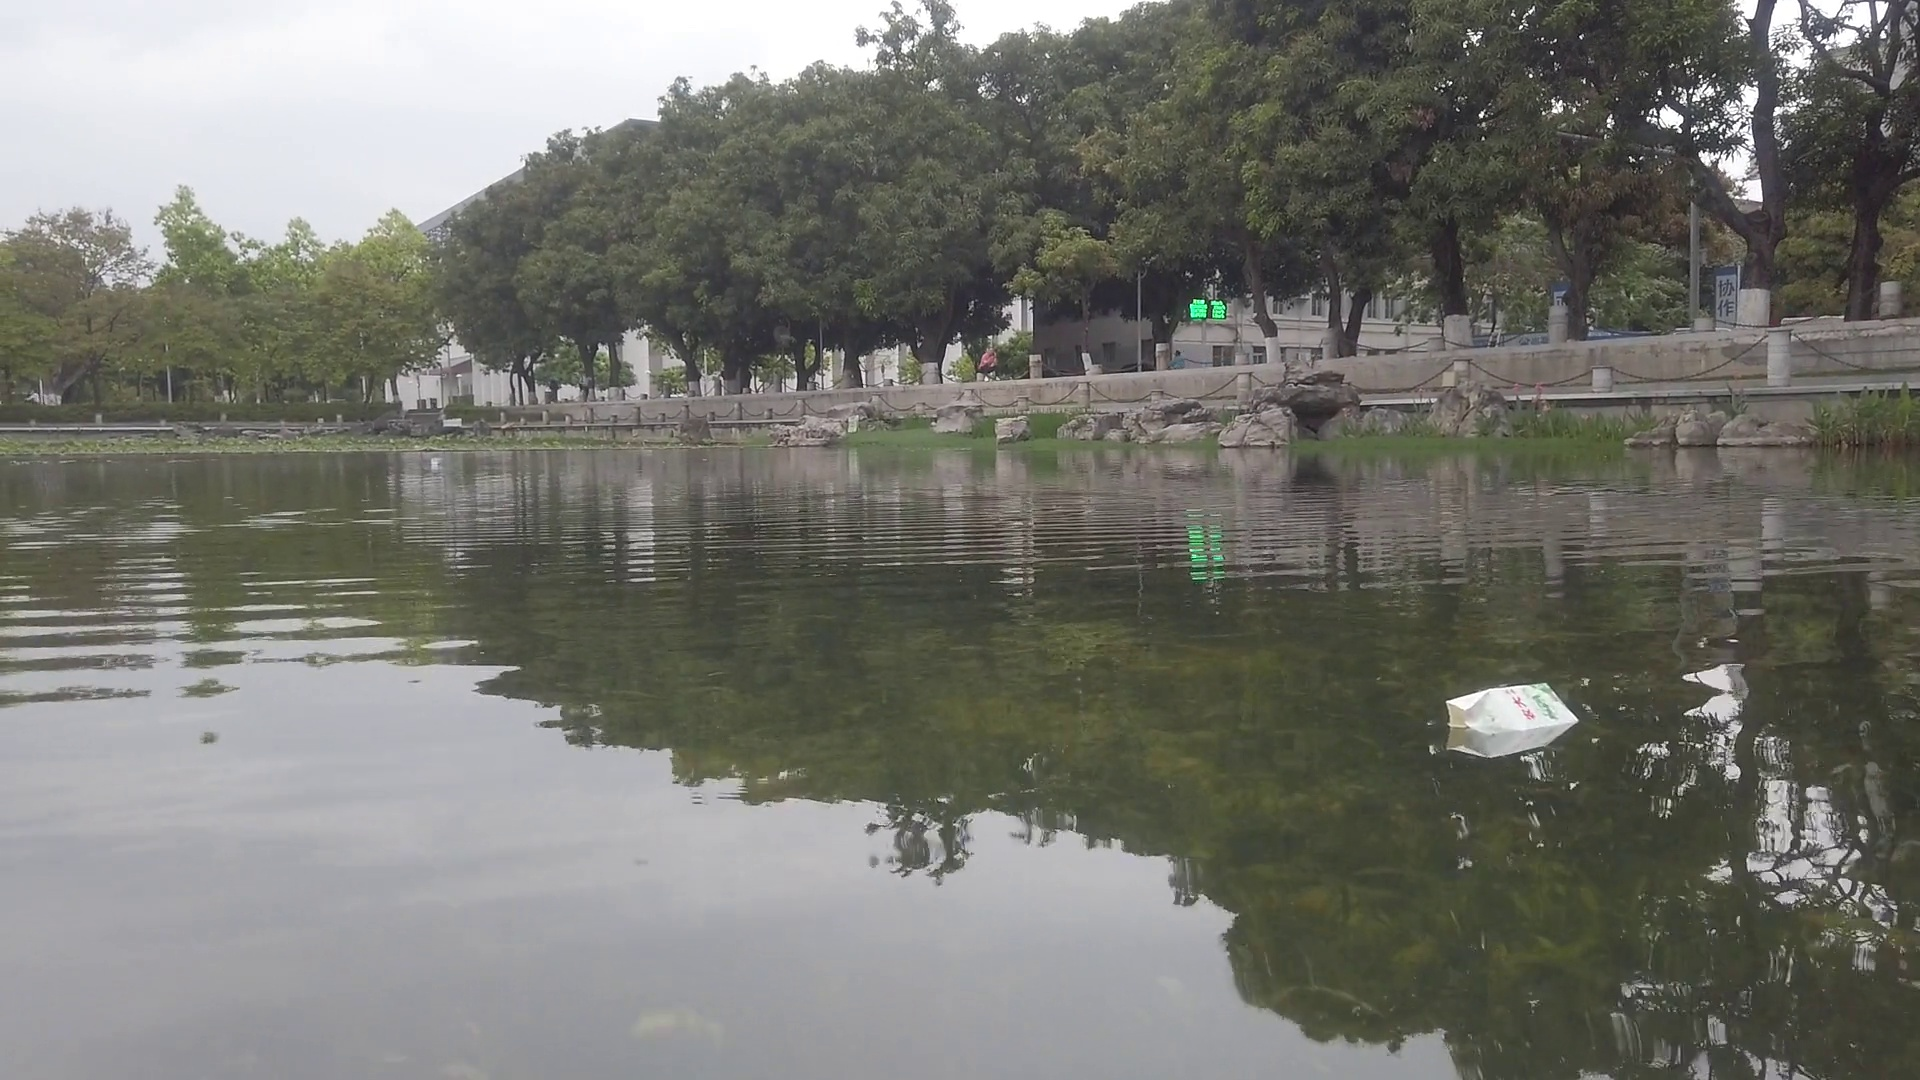carton: (1443, 675, 1577, 754), (429, 458, 444, 468)
